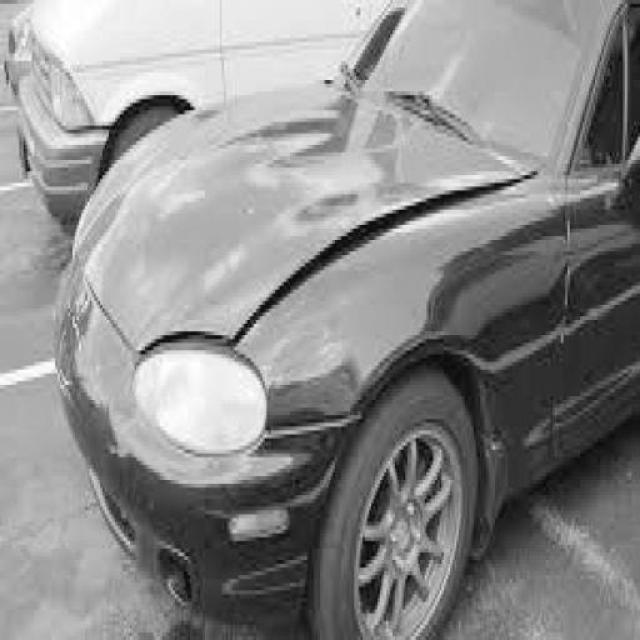car damage: (134, 165, 547, 364)
